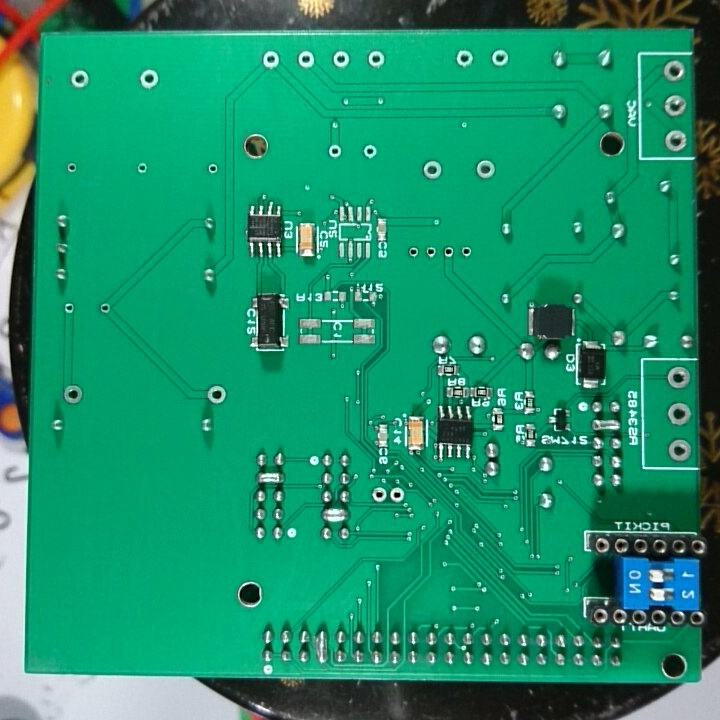F: (663, 400, 693, 429), (664, 365, 693, 394), (664, 123, 689, 155), (660, 58, 687, 87), (664, 437, 693, 464), (136, 67, 164, 94), (662, 92, 688, 120), (62, 381, 89, 406), (420, 158, 445, 184), (69, 66, 94, 92), (474, 157, 499, 180), (330, 49, 356, 71), (454, 48, 480, 70), (259, 50, 282, 74), (205, 383, 229, 406), (489, 47, 513, 69), (366, 47, 387, 72), (296, 49, 316, 71), (62, 298, 81, 319), (361, 142, 379, 163), (370, 486, 388, 507), (389, 485, 404, 507), (135, 159, 153, 177), (96, 301, 114, 318), (423, 245, 439, 263), (327, 143, 342, 162), (441, 243, 455, 263), (206, 160, 220, 177), (407, 245, 421, 261), (458, 243, 473, 256), (64, 159, 80, 165)
P: (253, 466, 287, 487), (313, 626, 330, 668), (592, 415, 621, 434), (320, 505, 347, 523)
